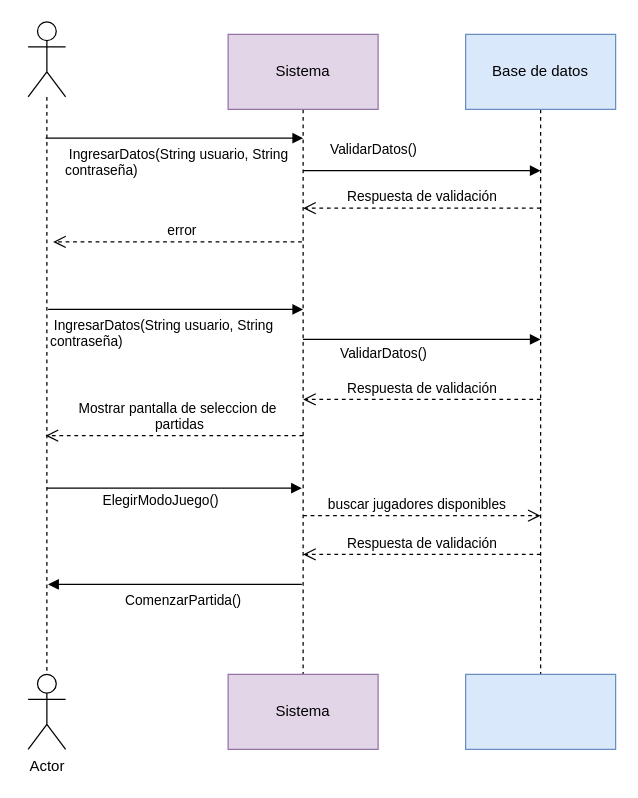
The diagram is 638 pixels wide and 798 high, and some of its shapes have lost their labels. The shapes that lost their labels are listed below. From the top down, each one's centre as x and y in pixels, then its label:
point (46, 59): Usuario
point (540, 711): Fichero
